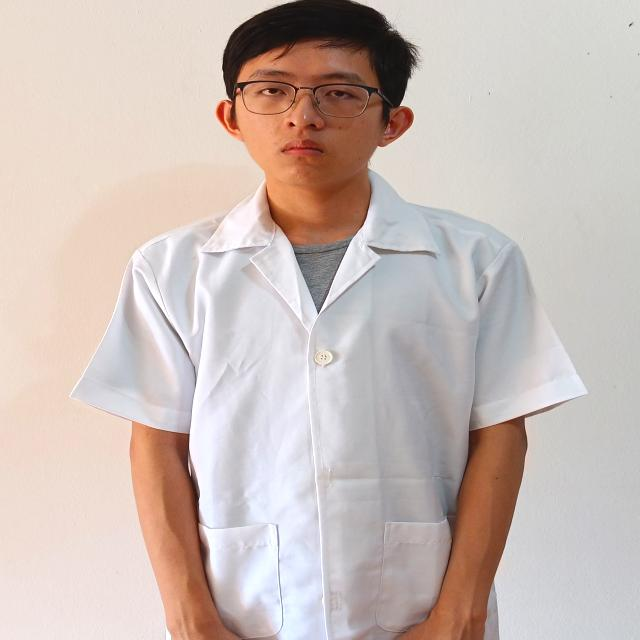person_with_labcoat: (72, 0, 585, 640)
